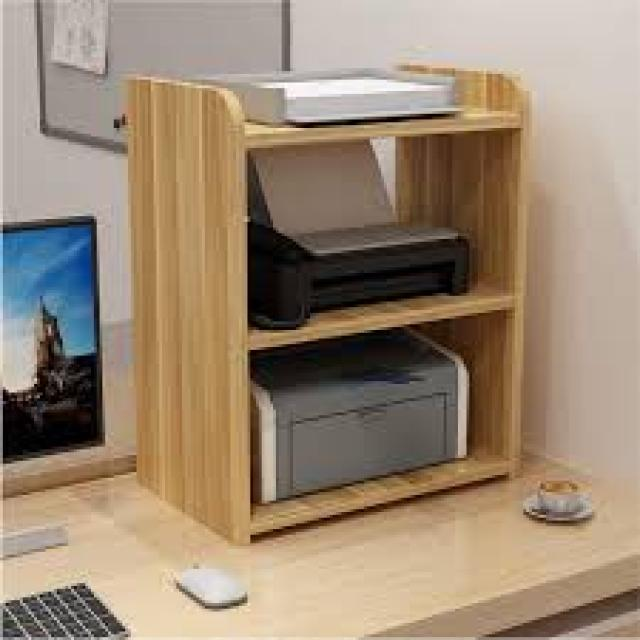printer: (245, 137, 469, 327), (248, 324, 470, 503)
